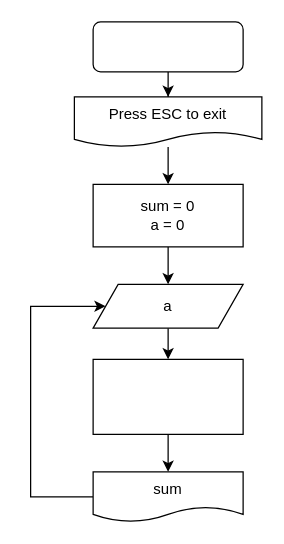
Image size: 284x544. Some labels were removed from this diagram. The centre of each missing label's shape, as x and y in pixels:
"START" belongs at point 167,46.
"sum = sum + (a + a)" belongs at point 167,396.
